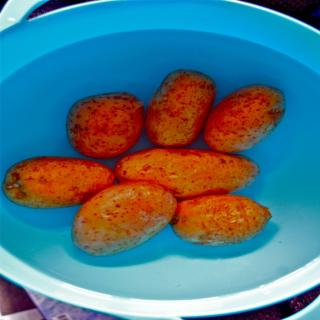Potato: (4, 68, 285, 256)
